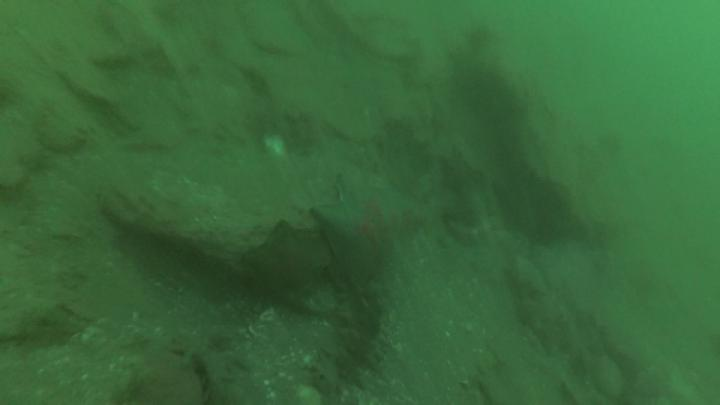holothurian: (317, 286, 382, 391)
scallop: (265, 136, 285, 157)
starfish: (311, 182, 405, 279), (243, 222, 318, 298)
